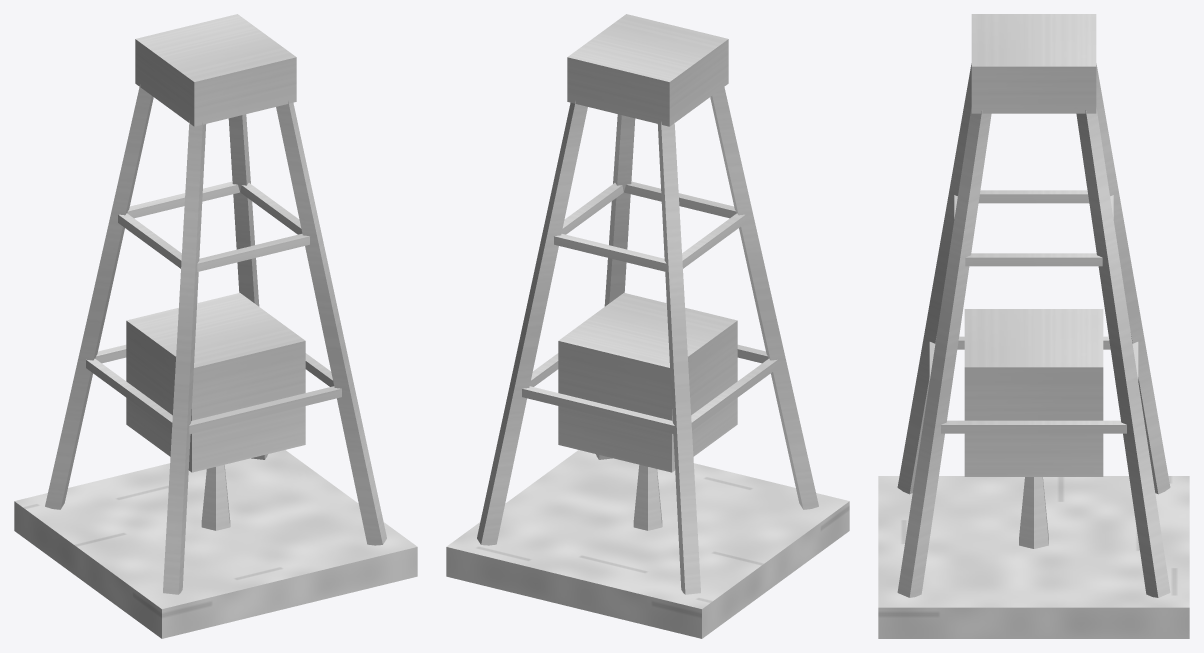
The model's file is deep_drill.obj.
3 views of the same model, side by side, from view 1: azimuth 30°, elevation 25°; view 2: azimuth 150°, elevation 25°; view 3: azimuth 270°, elevation 25° (orthographic). The views are drawn at different scales.
Visible parts, largest first — view 1: deep_drill; view 2: deep_drill; view 3: deep_drill.
Part boxes in pixels (<box>): deep_drill: <box>14,14,417,638</box>; deep_drill: <box>446,14,849,638</box>; deep_drill: <box>878,14,1189,638</box>.
Size of the model in its own units: 0.9 by 1.7 by 0.9.
